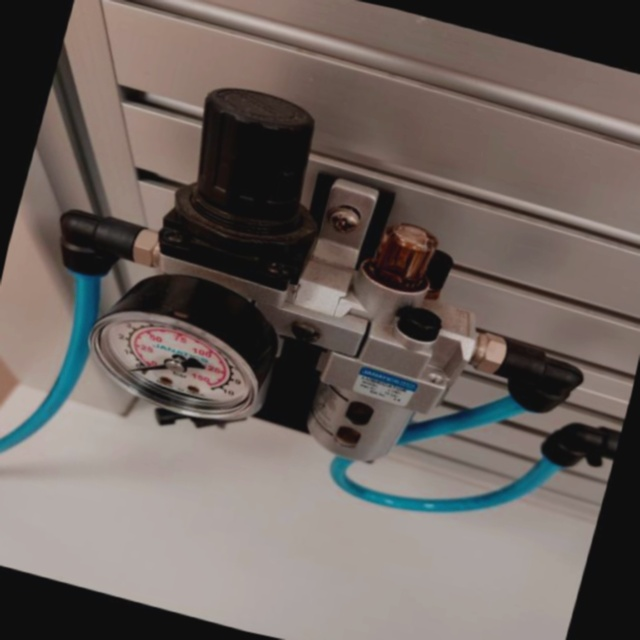FRL unit: (0, 36, 562, 535)
